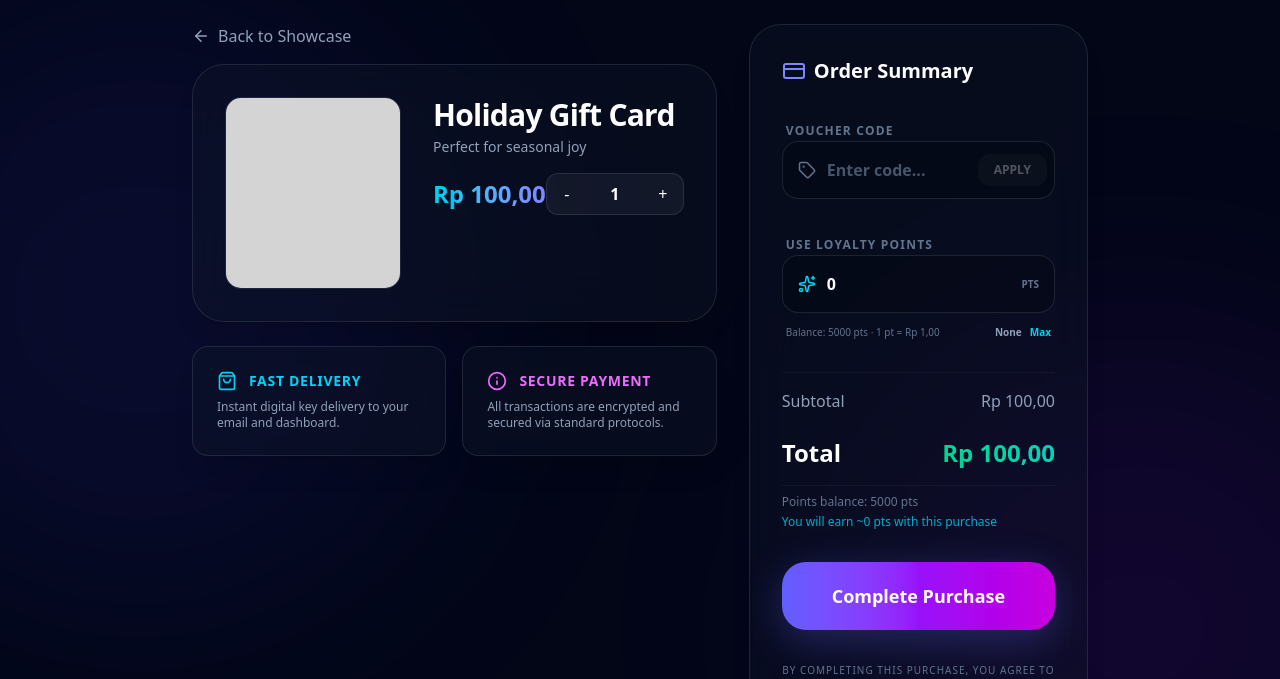
Test: CheckoutView Automation Suite › submits points_to_use with the purchase payload
Check: the heading "Holiday Gift Card" is shown, box [433,97,684,133]
Type "CHRISTMAS2030" into the field with placeholder "Enter code...".
click(918, 170); type("CHRISTMAS2030")  # box [782,141,1055,199]
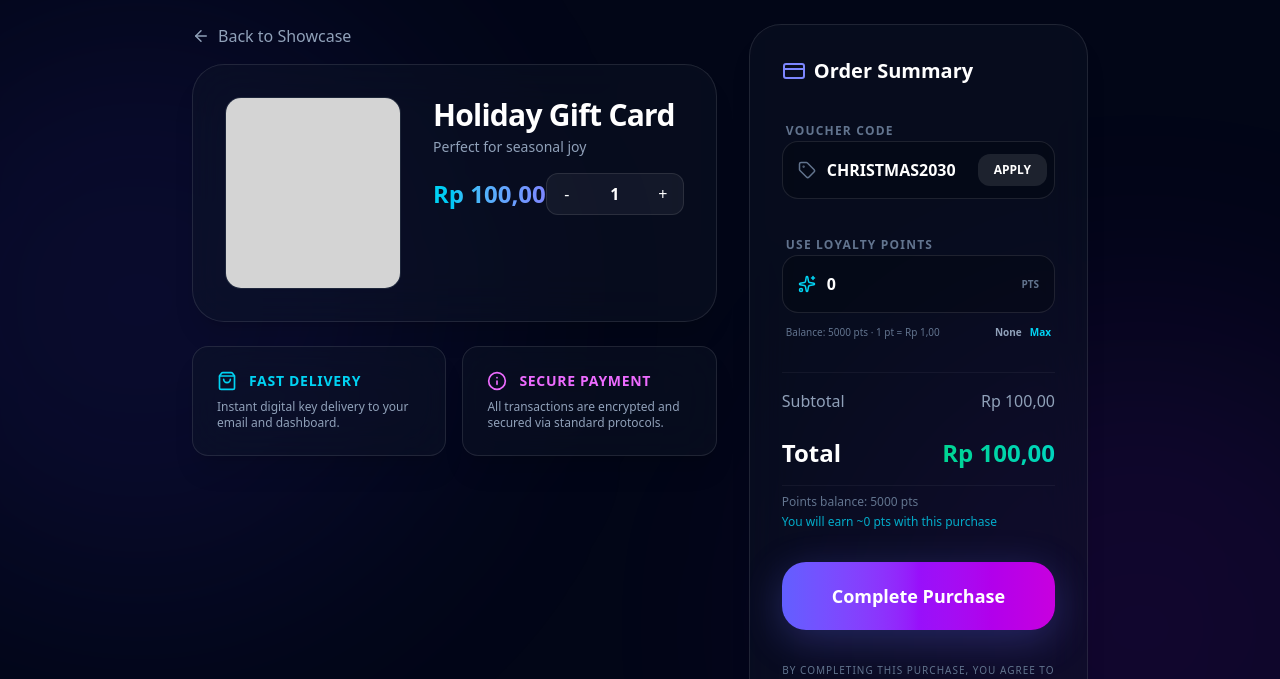
Click the button "APPLY".
click(1012, 170)  # box [978,154,1047,186]
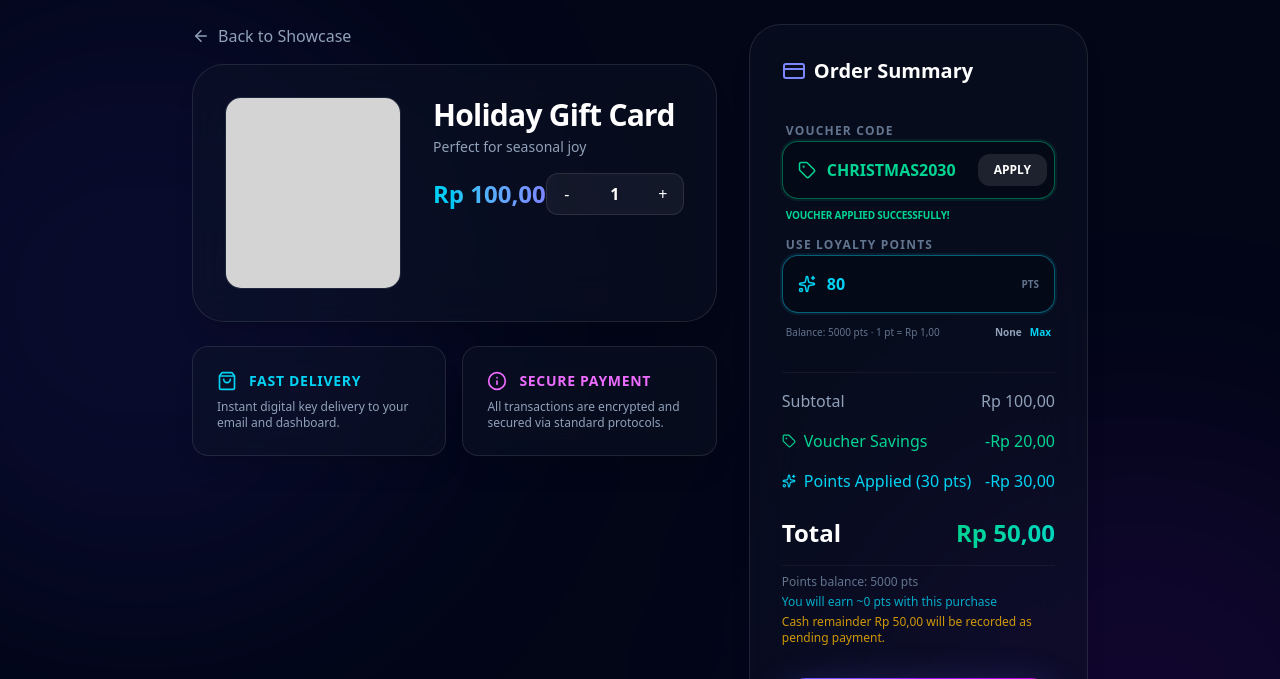
Check: the number field with test id "points-input" holds "80"
Replace the text in the number field with test id "points-input" with "30" at (918, 284), box [782,255,1055,313]
(page scrolled)
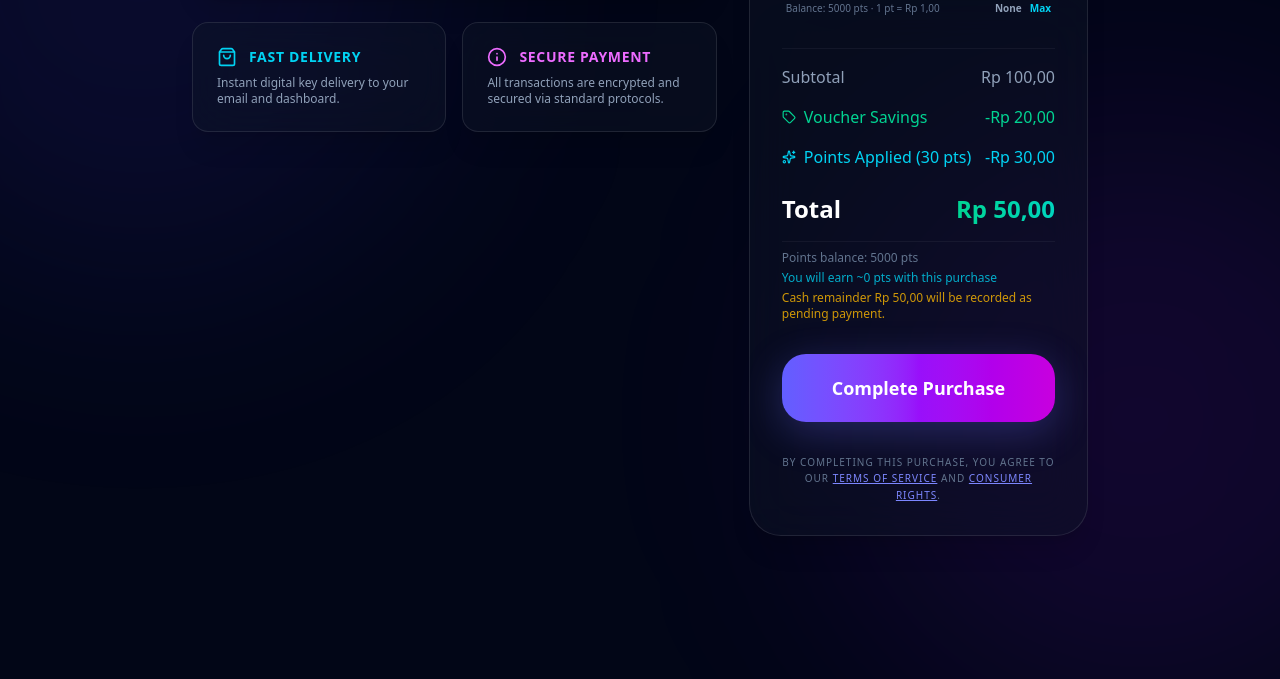
Click the button "Complete Purchase".
click(918, 388)  # box [782,354,1055,422]
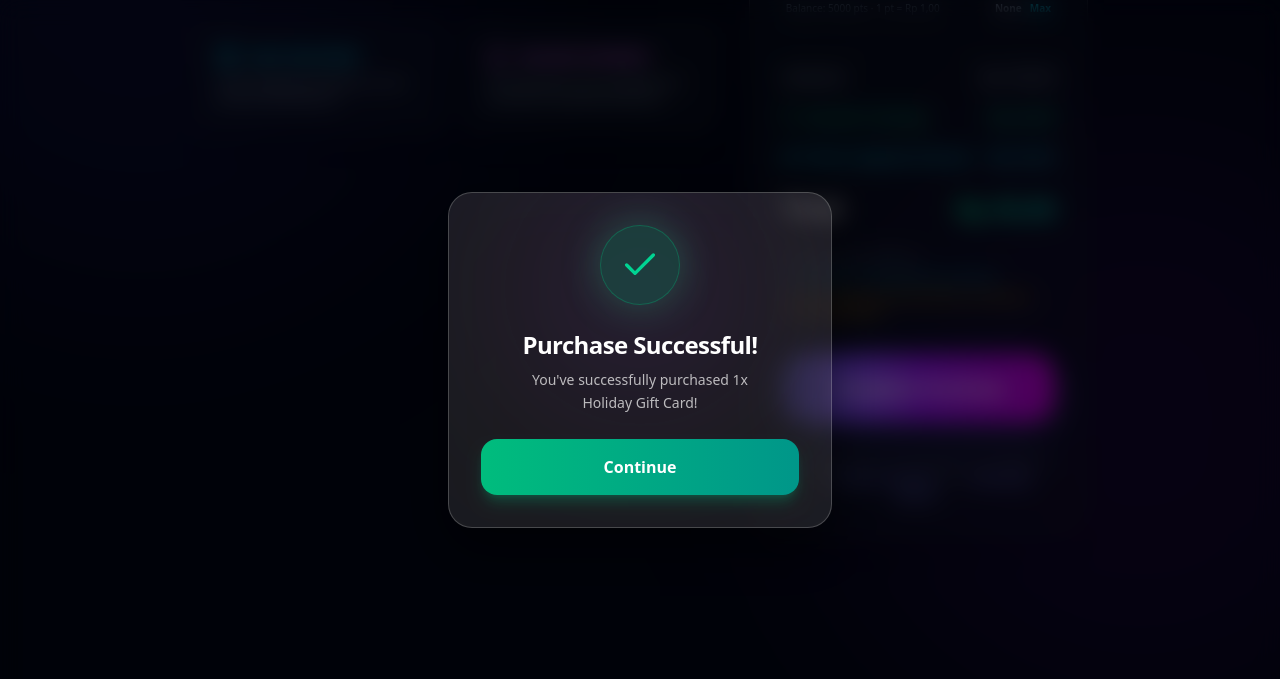
Check: the heading "Purchase Successful!" is shown, box [522,328,758,361]
